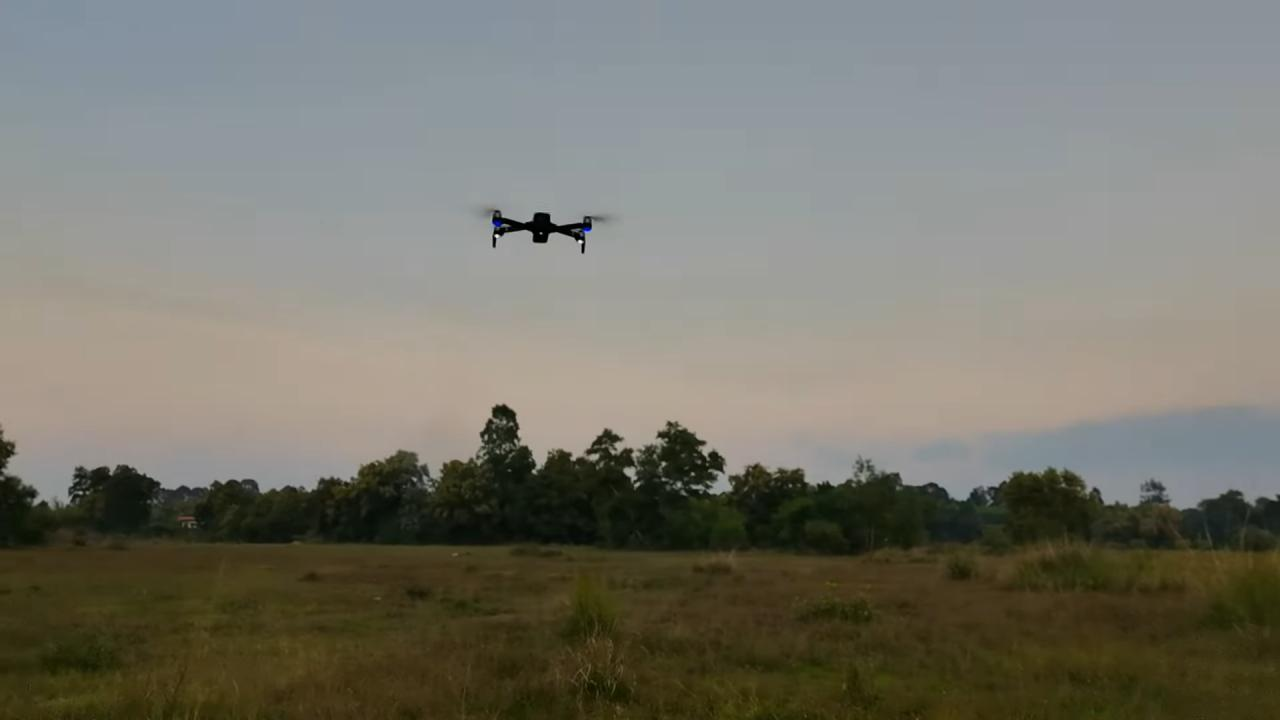Drone: (470, 194, 622, 267)
